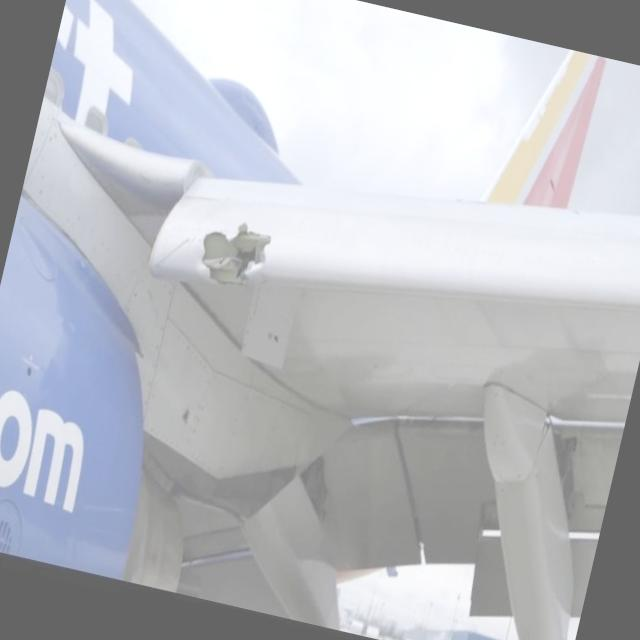crack: (193, 216, 278, 296)
